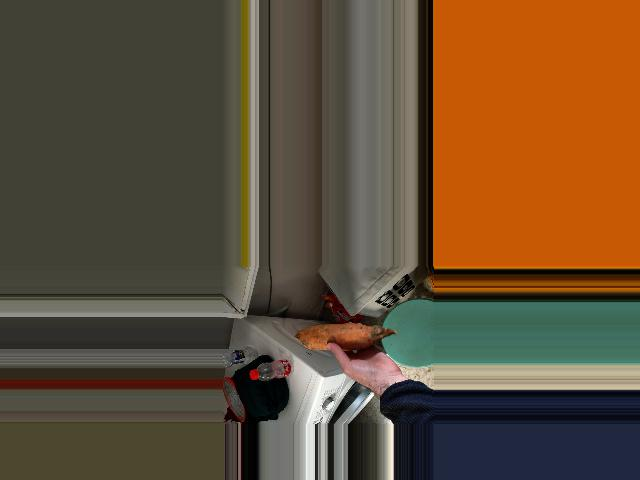sweet_potato: (307, 323, 387, 354)
